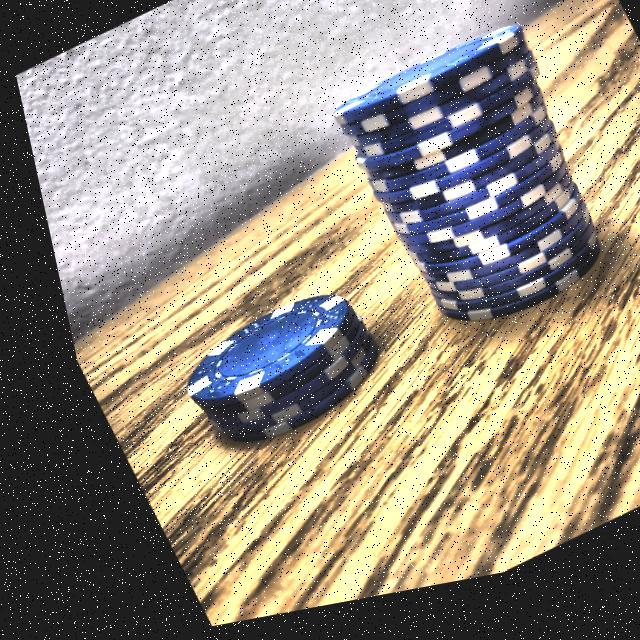Chip: (286, 7, 640, 395), (136, 265, 387, 476)
